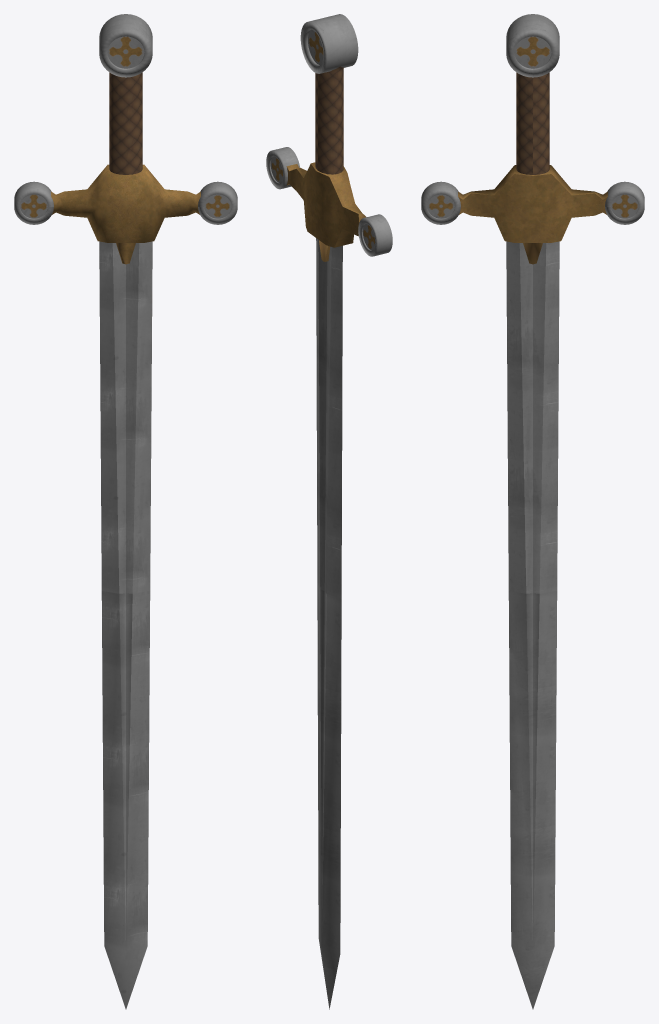
Rendered from sword.gltf.
The picture shows the model from 3 angles, left to right: view 1: azimuth 90°, elevation 25°; view 2: azimuth 210°, elevation 25°; view 3: azimuth 270°, elevation 25°; orthographic projection.
Parts seen in each view (by area): view 1: SM_LongSword; view 2: SM_LongSword; view 3: SM_LongSword.
Boxes of the visible parts, left/top/right/bottom form: SM_LongSword: left=14, top=14, right=237, bottom=1009; SM_LongSword: left=266, top=14, right=392, bottom=1009; SM_LongSword: left=421, top=14, right=644, bottom=1009.
Size of the model in its own units: 0.0326 by 1 by 0.2051.
1 material, 1 textured.
